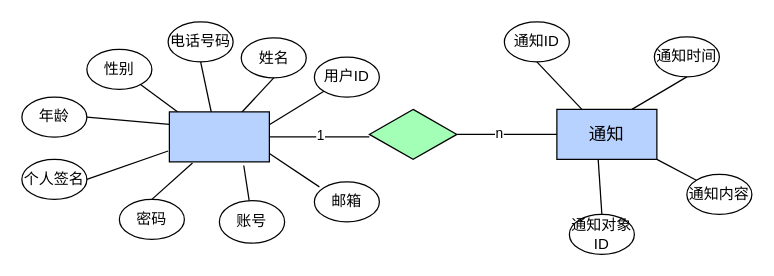
This 774x276 diagram has some shape labels left out. Each missing label, with the box of its shape:
接收通知: (368, 108, 457, 159)
用户: (168, 111, 269, 162)
